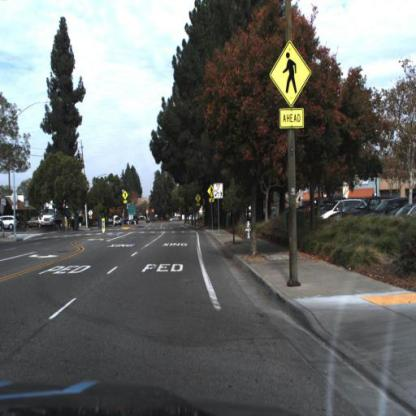car: (321, 194, 369, 223), (318, 197, 346, 228), (351, 197, 385, 220), (23, 216, 42, 233)
truck: (38, 201, 58, 230)
